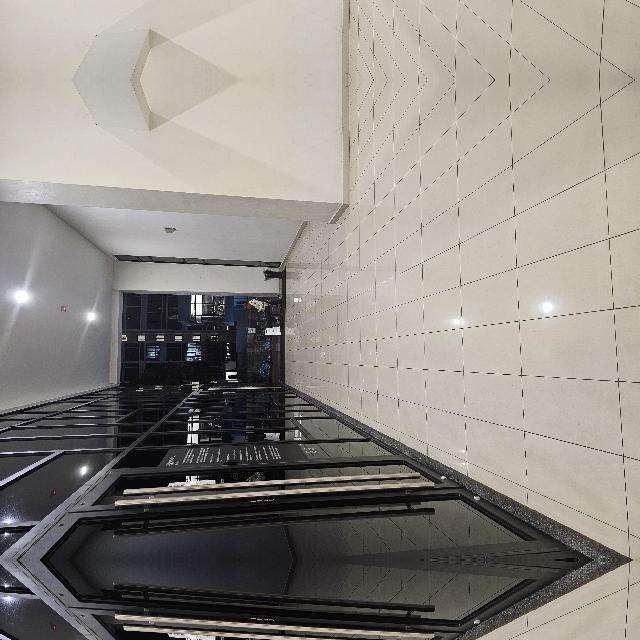obstacle: (278, 342, 292, 366), (222, 344, 235, 364)
person: (239, 320, 265, 360)
